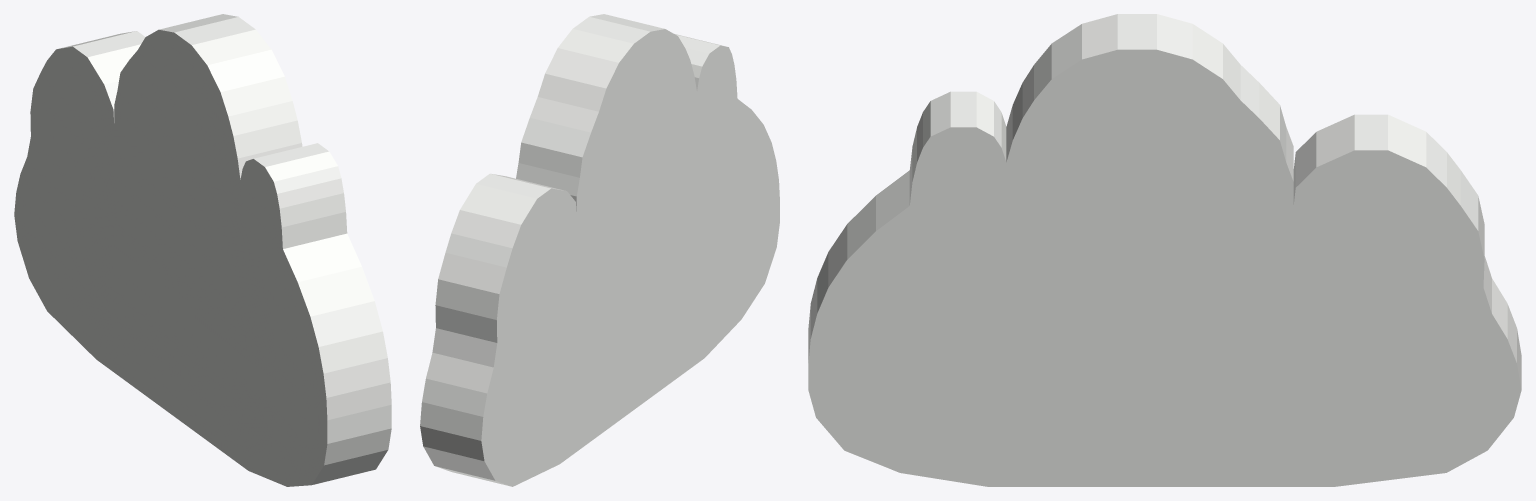
Rendered from Cloud 3T.fbx.
The picture shows the model from 3 angles, left to right: view 1: azimuth 30°, elevation 25°; view 2: azimuth 150°, elevation 25°; view 3: azimuth 270°, elevation 25°; orthographic projection. The views are drawn at different scales.
Parts seen in each view (by area): view 1: Cloud 3; view 2: Cloud 3; view 3: Cloud 3.
Boxes of the visible parts, <box> form: Cloud 3: <box>14,14,391,486</box>; Cloud 3: <box>420,14,779,486</box>; Cloud 3: <box>808,14,1521,486</box>.
Size of the model in its own units: 55.59 by 317 by 469.
